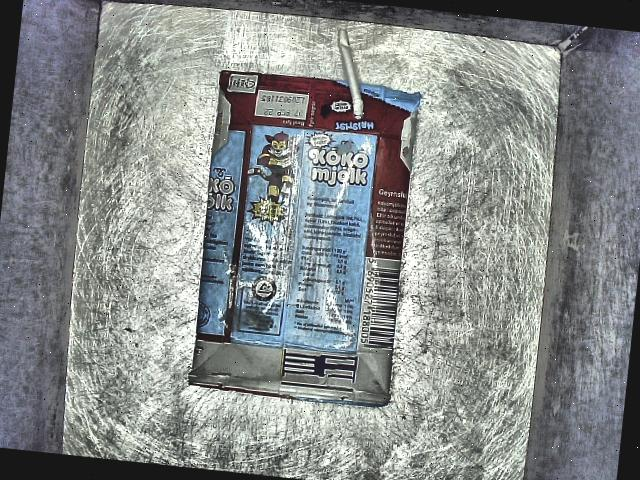Paper: (165, 13, 451, 418)
